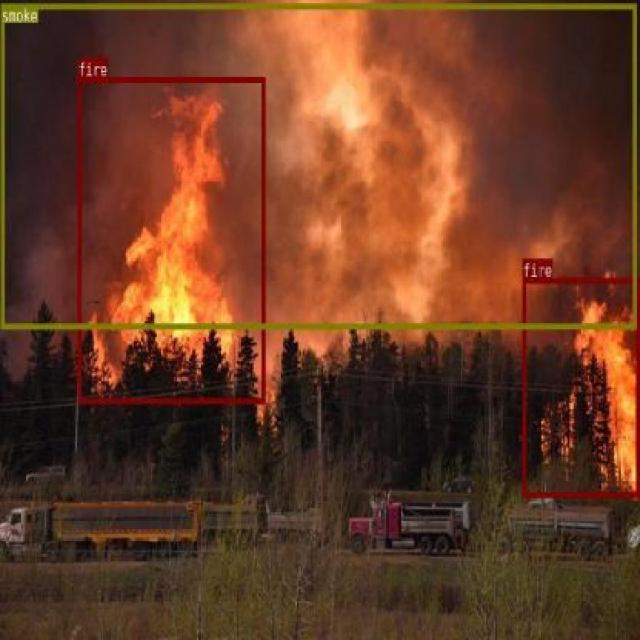Fire: (77, 76, 265, 402), (522, 276, 638, 496)
Smoke: (0, 8, 635, 332)
